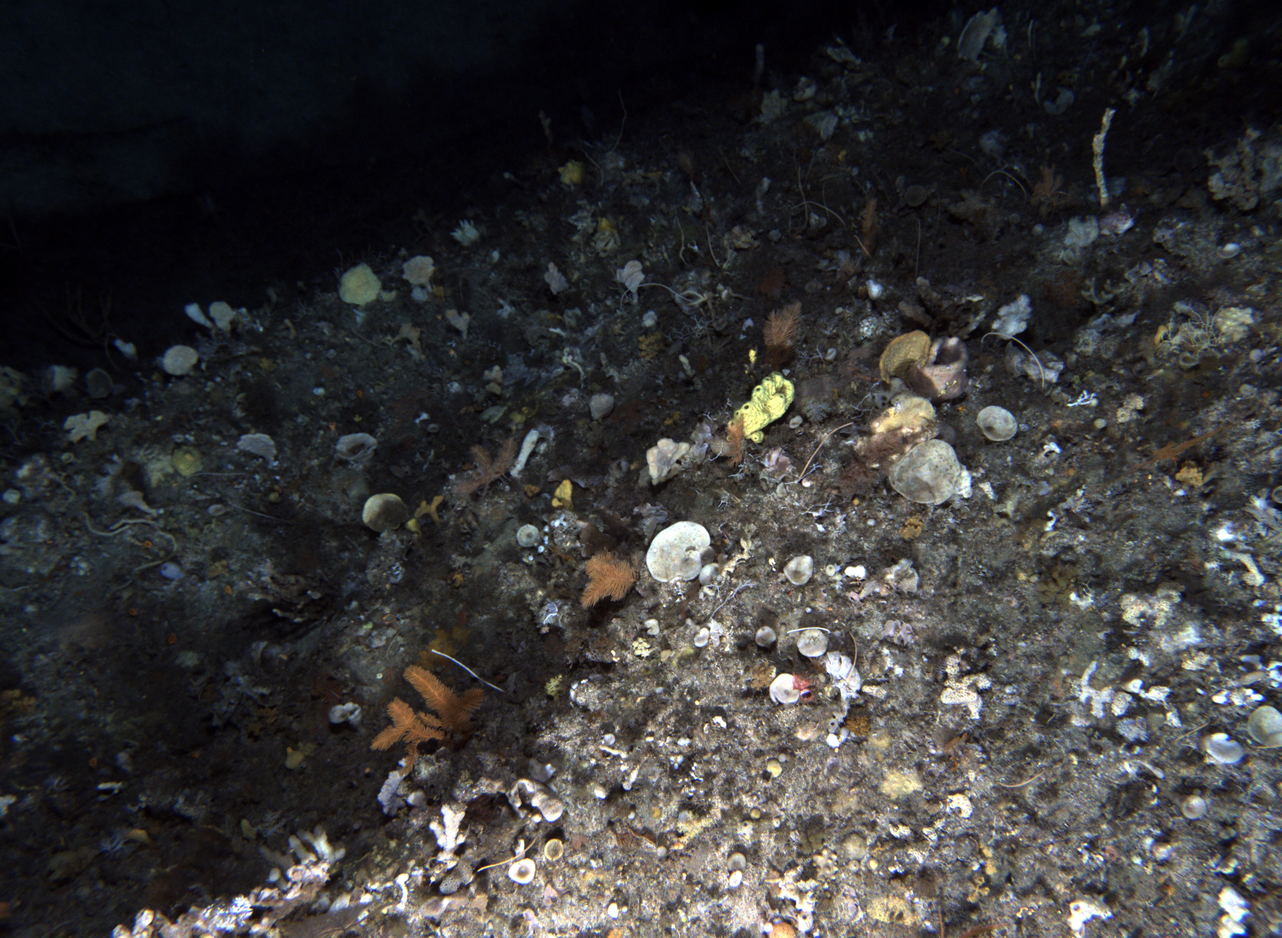Brachionichthyidae: (1096, 202, 1137, 239)
